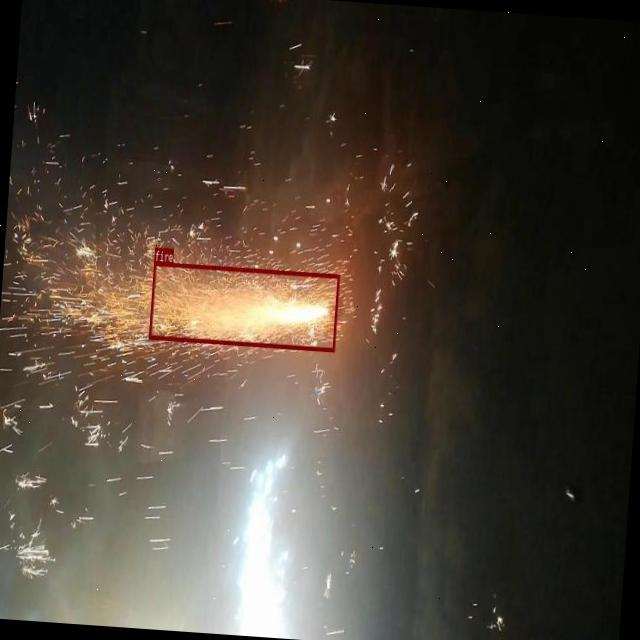fire: (148, 261, 340, 351)
